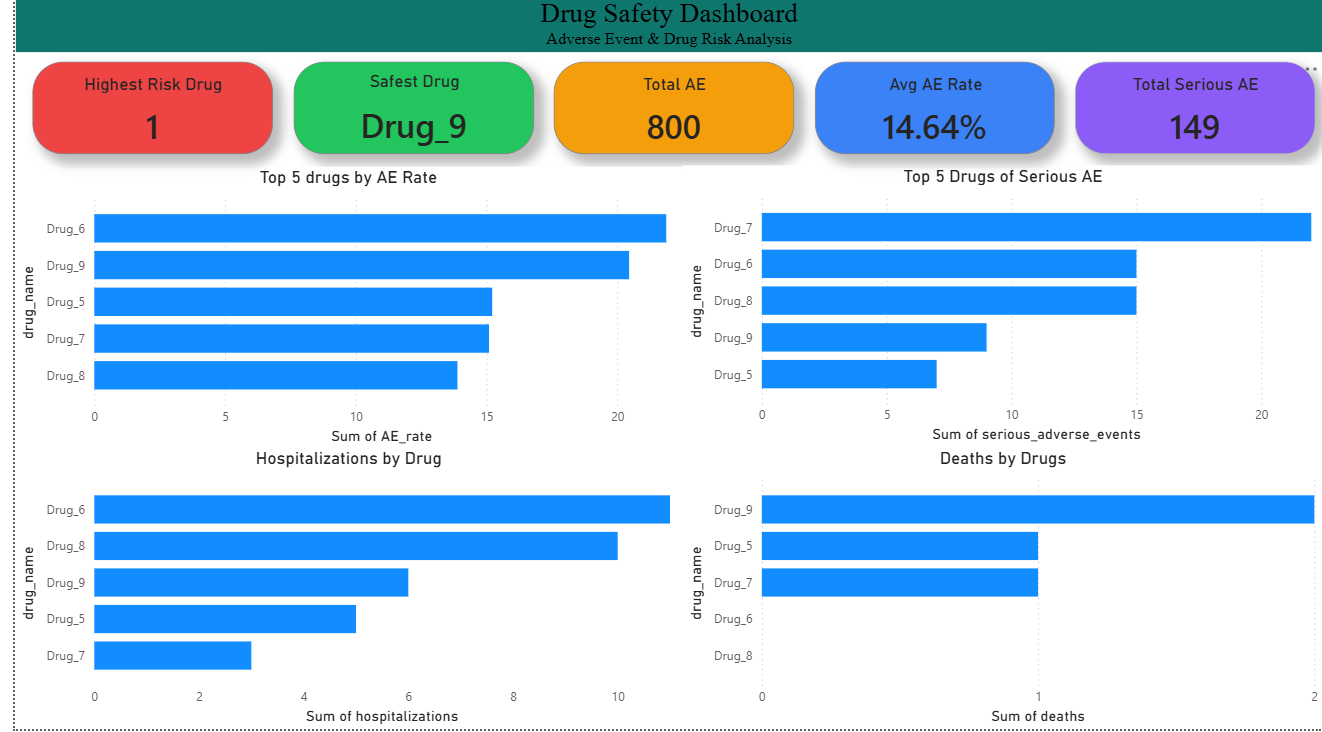

Layout of this report page (visuals, bound fields, positions):
{"tool":"powerbi","page":{"name":"Drug Safety Dashboard","canvas":[1280,720],"ordinal":2},"visuals":[{"type":"textbox","box":[0,0,1280,58.8],"z":0},{"type":"cardVisual","title":"Total AE ","fields":{"Data":["best_drug_with_low_safety.Total AE"]},"box":[527.1,67.3,235,90],"z":1000},{"type":"cardVisual","title":"Safest Drug","fields":{"Data":["Max(best_drug_with_low_safety.drug_name)"]},"box":[272.1,67.3,235,90],"z":2000},{"type":"clusteredBarChart","title":"Top 5 drugs by AE Rate","fields":{"Y":["Sum(best_drug_with_low_safety.AE_rate)"],"Category":["best_drug_with_low_safety.drug_name"]},"box":[0,170,652.5,276.2],"z":3000},{"type":"clusteredBarChart","title":"Hospitalizations by Drug","fields":{"Y":["Sum(drug_with_most_ae.hospitalizations)"],"Category":["drug_with_most_ae.drug_name"]},"box":[0,445.1,653,275.1],"z":4000},{"type":"cardVisual","title":"Total Serious AE ","fields":{"Data":["Sum(drug_with_most_ae.serious_adverse_events)"]},"box":[1037,67.3,235,90],"z":5000},{"type":"clusteredBarChart","title":"Deaths by Drugs","fields":{"Category":["drug_with_most_ae.drug_name"],"Y":["Sum(drug_with_most_ae.deaths)"]},"box":[653,445.1,627.3,275.1],"z":6000},{"type":"clusteredBarChart","title":"Top 5 Drugs of Serious AE","fields":{"Category":["drug_with_most_ae.drug_name"],"Y":["Sum(drug_with_most_ae.serious_adverse_events)"]},"box":[653,168.8,627.3,276.4],"z":7000},{"type":"cardVisual","title":"Highest Risk Drug","fields":{"Data":["Count(drug_with_most_ae.drug_name)"]},"box":[17.1,67.3,235,90],"z":9000},{"type":"cardVisual","title":"Avg AE Rate","fields":{"Data":["best_drug_with_low_safety.Avg AE Rate"]},"box":[782.2,67.3,234.8,90.5],"z":10000}]}

Visuals, with their boxes in screenshot pixels (x1, y1, x2, y2), scaled from the page's 1280x720 canvas onto the 1322x732 screenshot:
textbox: <bbox>0, 0, 1321, 60</bbox>
"Total AE " cardVisual: <bbox>544, 68, 787, 160</bbox>
"Safest Drug" cardVisual: <bbox>281, 68, 524, 160</bbox>
"Top 5 drugs by AE Rate" clusteredBarChart: <bbox>0, 173, 674, 454</bbox>
"Hospitalizations by Drug" clusteredBarChart: <bbox>0, 453, 674, 731</bbox>
"Total Serious AE " cardVisual: <bbox>1071, 68, 1314, 160</bbox>
"Deaths by Drugs" clusteredBarChart: <bbox>674, 453, 1321, 731</bbox>
"Top 5 Drugs of Serious AE" clusteredBarChart: <bbox>674, 172, 1321, 453</bbox>
"Highest Risk Drug" cardVisual: <bbox>18, 68, 260, 160</bbox>
"Avg AE Rate" cardVisual: <bbox>808, 68, 1050, 160</bbox>
